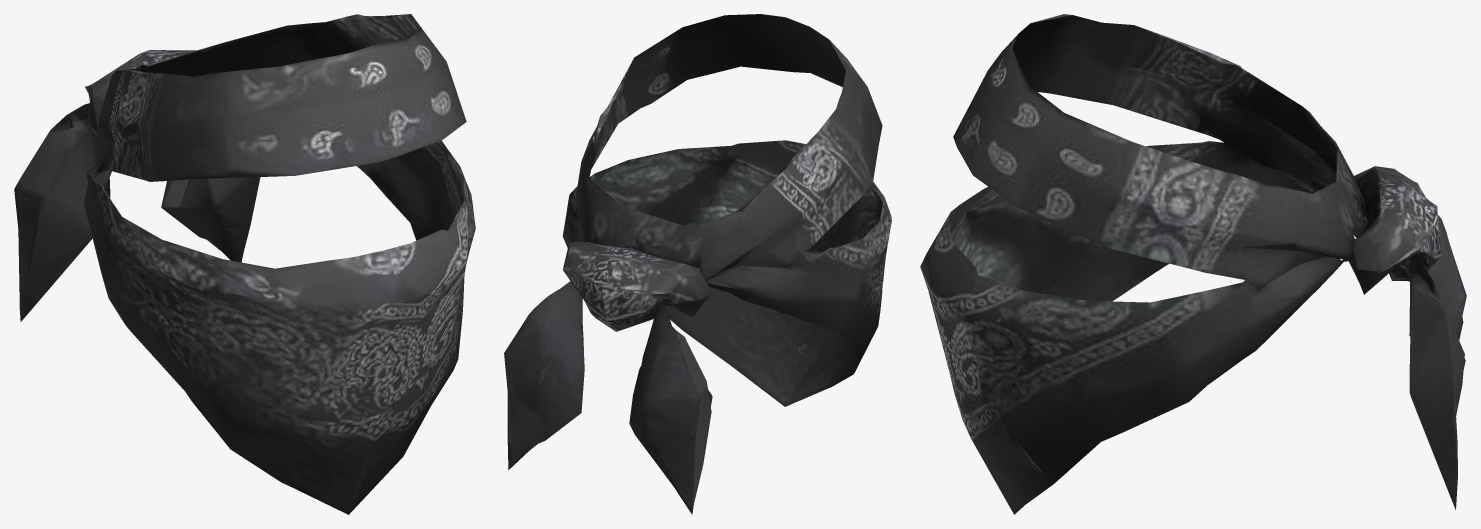
Rendered from mascara_bandana.glb.
3 renders of one model, left to right at view 1: azimuth 30°, elevation 25°; view 2: azimuth 150°, elevation 25°; view 3: azimuth 270°, elevation 25°, orthographic. The views are drawn at different scales.
Parts seen in each view (by area): view 1: tripo_node_0d3e9237-d9d4-4f88-a3ea-6451a3539ec9; view 2: tripo_node_0d3e9237-d9d4-4f88-a3ea-6451a3539ec9; view 3: tripo_node_0d3e9237-d9d4-4f88-a3ea-6451a3539ec9.
Boxes of the visible parts, box(x1,y1,x2,y2) form: tripo_node_0d3e9237-d9d4-4f88-a3ea-6451a3539ec9: box(14, 14, 475, 514); tripo_node_0d3e9237-d9d4-4f88-a3ea-6451a3539ec9: box(504, 14, 891, 514); tripo_node_0d3e9237-d9d4-4f88-a3ea-6451a3539ec9: box(920, 14, 1466, 514).
Bounding box in the file's own units: 0.7112 × 0.9404 × 0.9977.
1 material, 1 textured.
